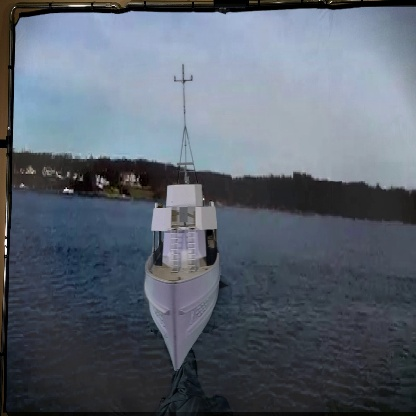YP689: (144, 64, 222, 369)
